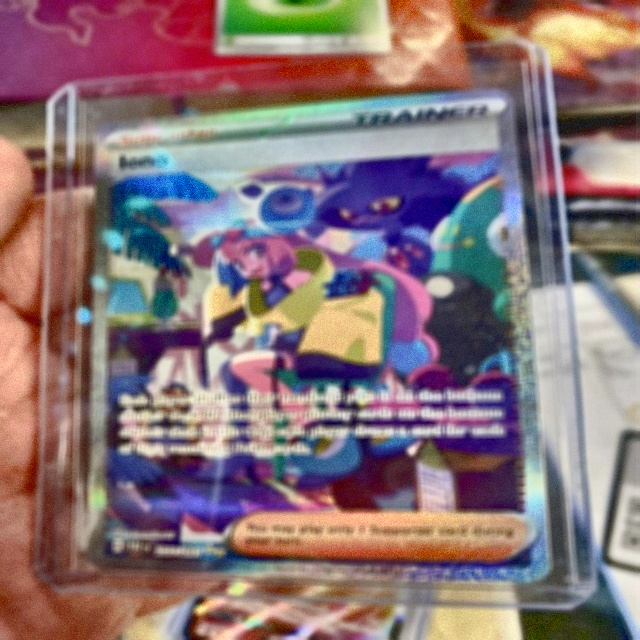card: (85, 85, 553, 585)
